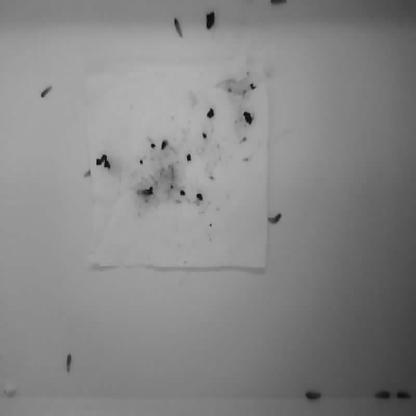PtecticusTenebrifer: (173, 17, 186, 38), (267, 211, 282, 228), (305, 391, 323, 403), (40, 84, 54, 98), (135, 188, 154, 197), (374, 391, 390, 401), (397, 390, 412, 400), (66, 353, 72, 376), (270, 0, 289, 5)
